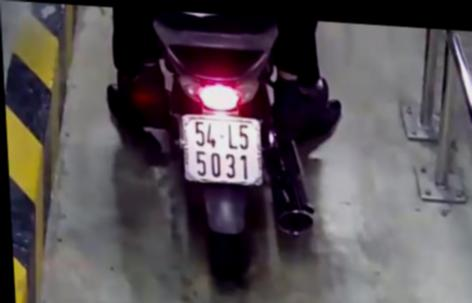License_Plate: (168, 110, 270, 190)
